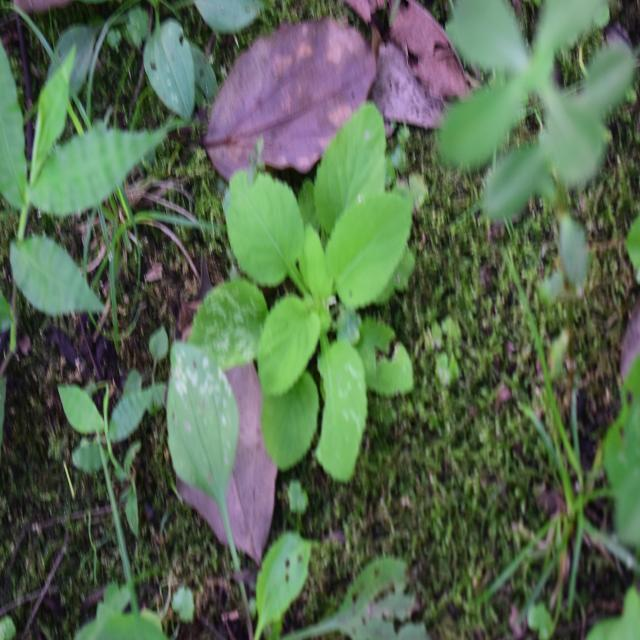Viola: (184, 100, 424, 502)
